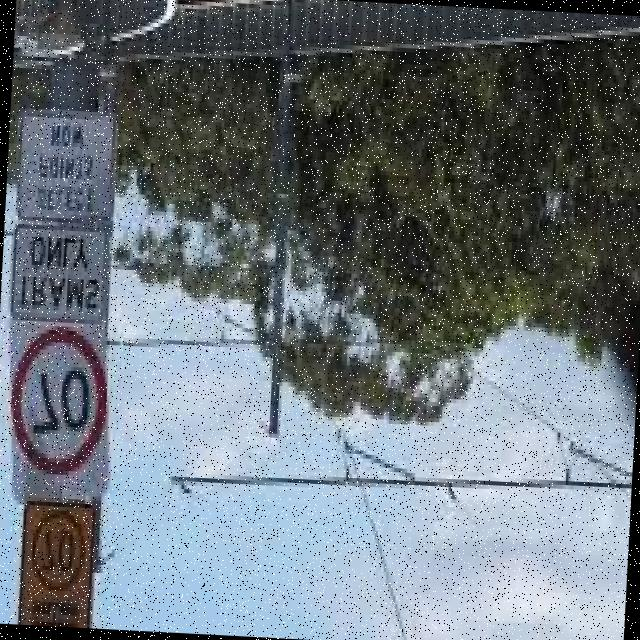speed_limit_70: (8, 320, 119, 479)
